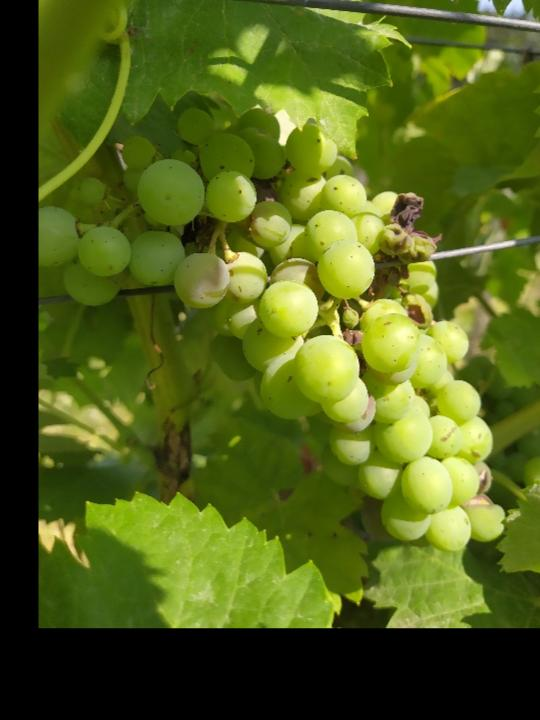grape: (43, 106, 506, 554)
